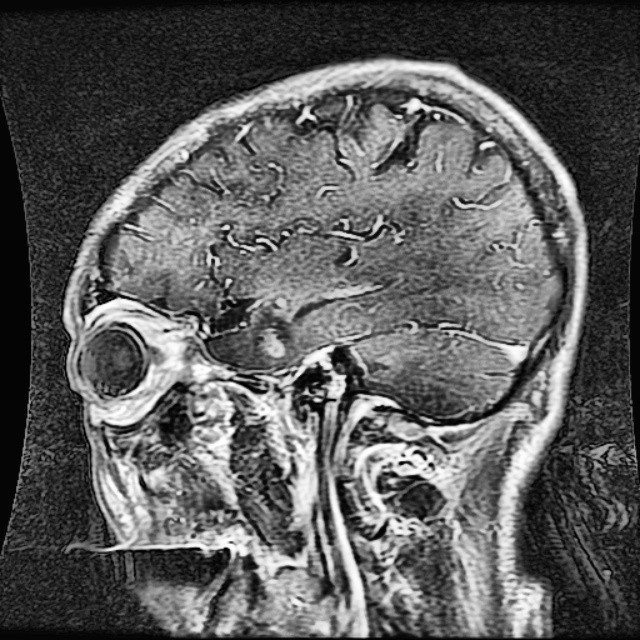Pituitary: (255, 310, 295, 364)
